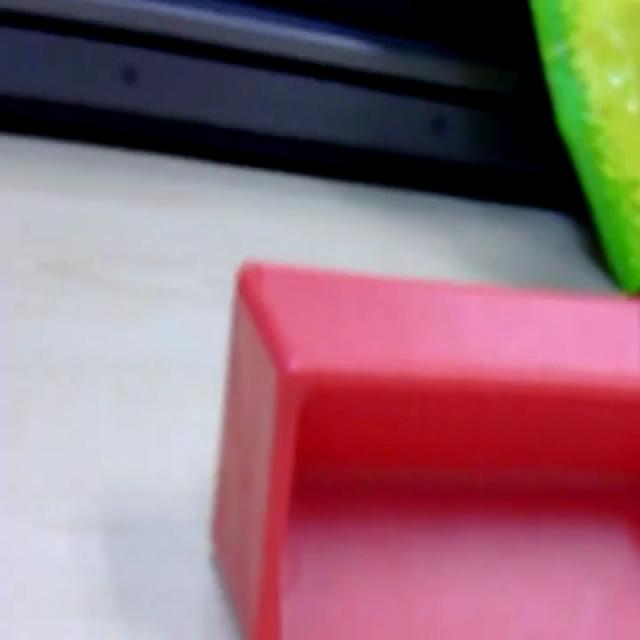red_block: (210, 255, 638, 636)
